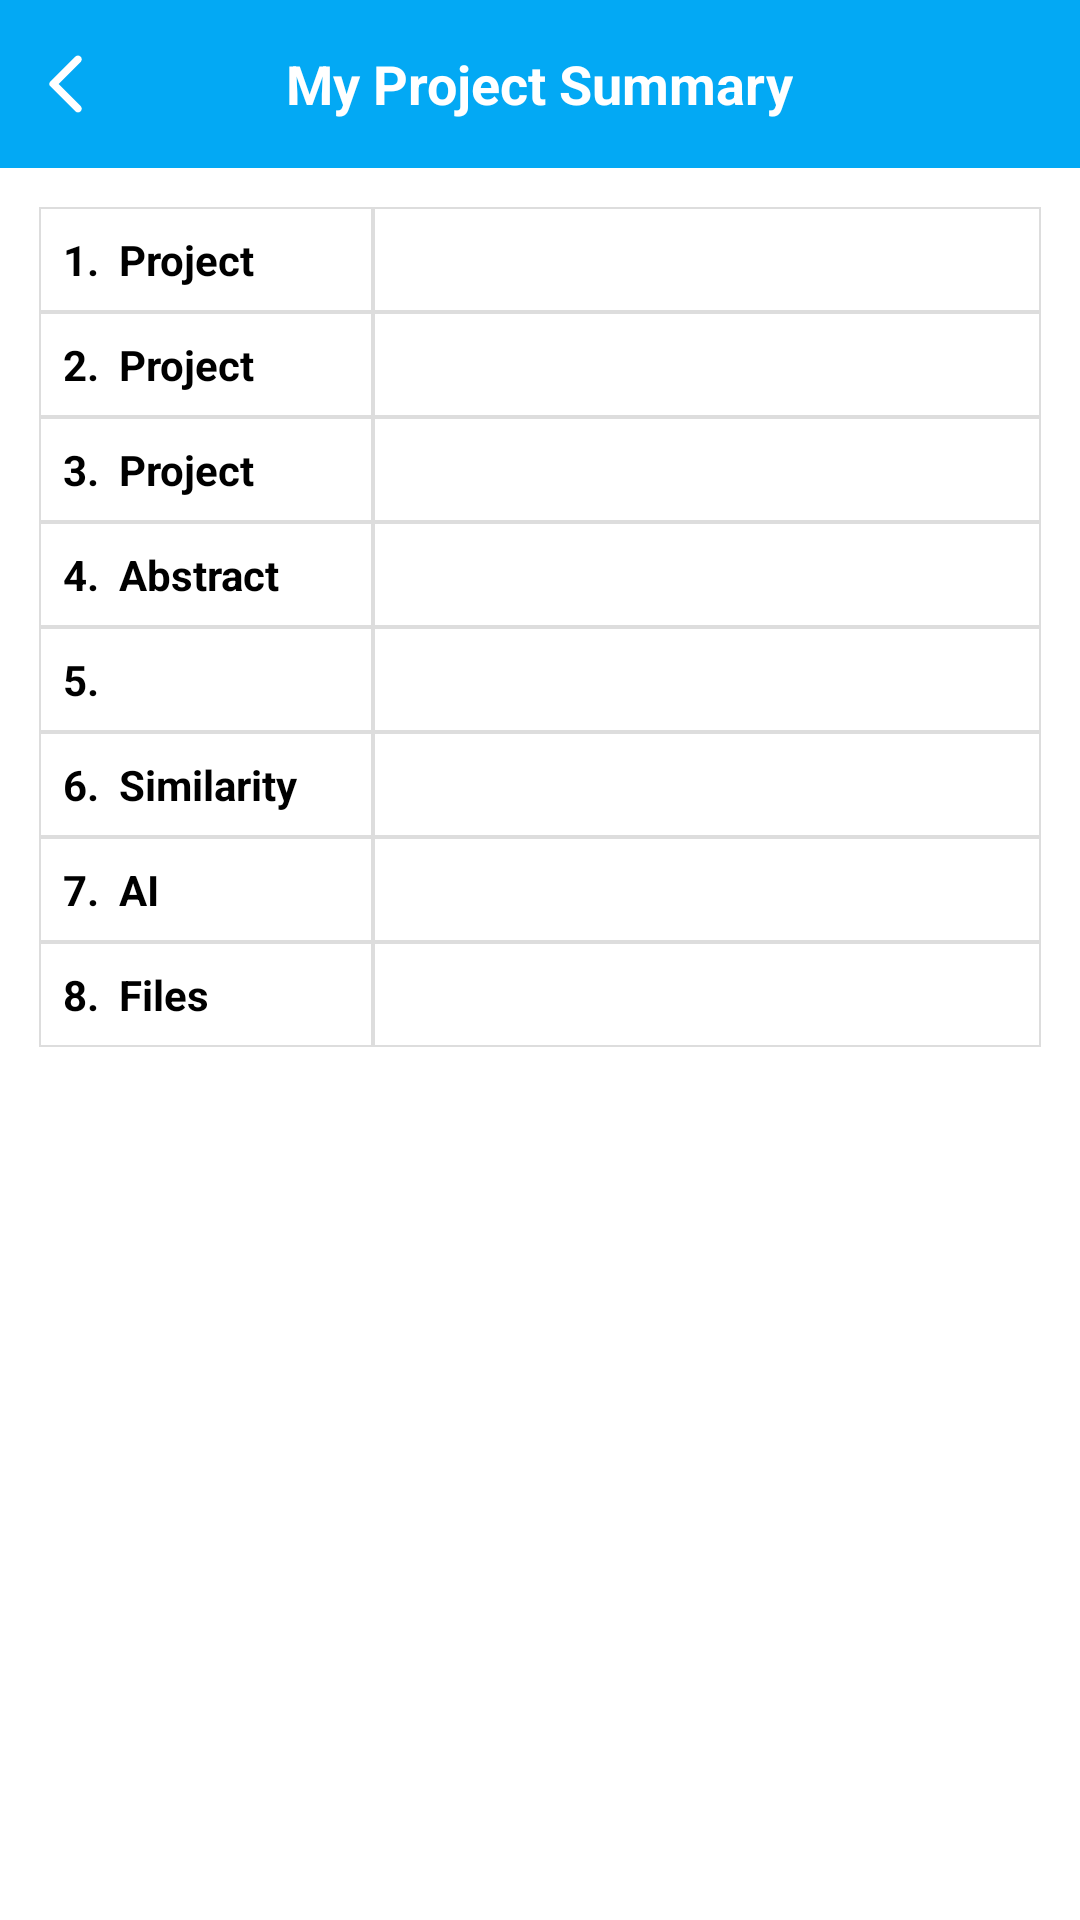

Where to tap for icons on this 1080 x 1920 app screen, as (x,y):
back: (65,84)
